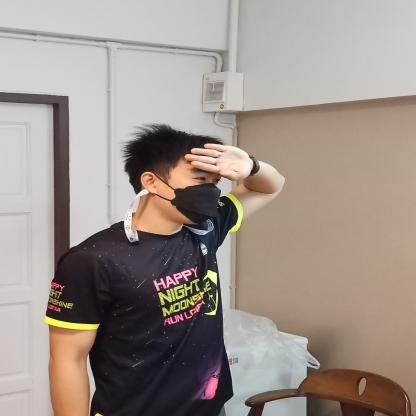Sick: (111, 130, 309, 224)
